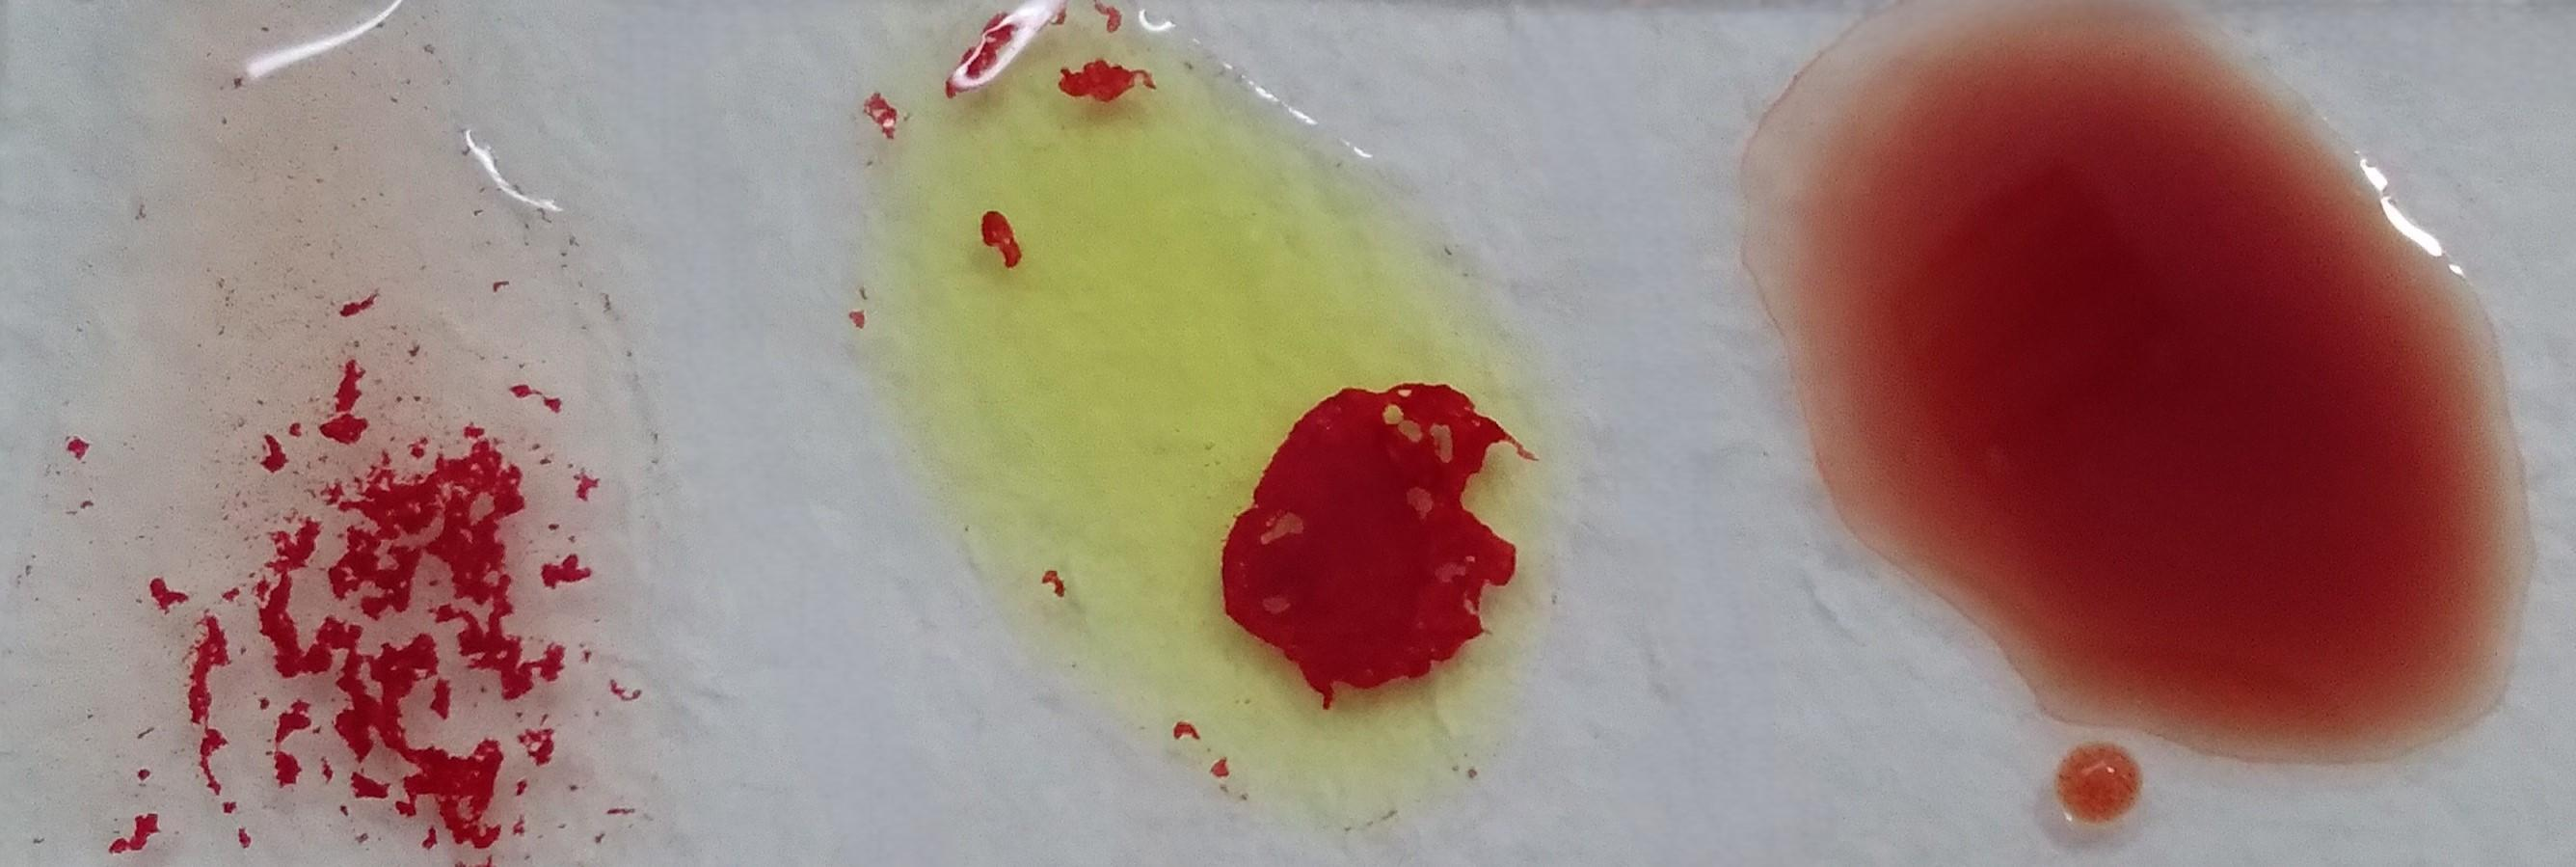B: (867, 44, 1557, 826)
D: (66, 107, 593, 856)
